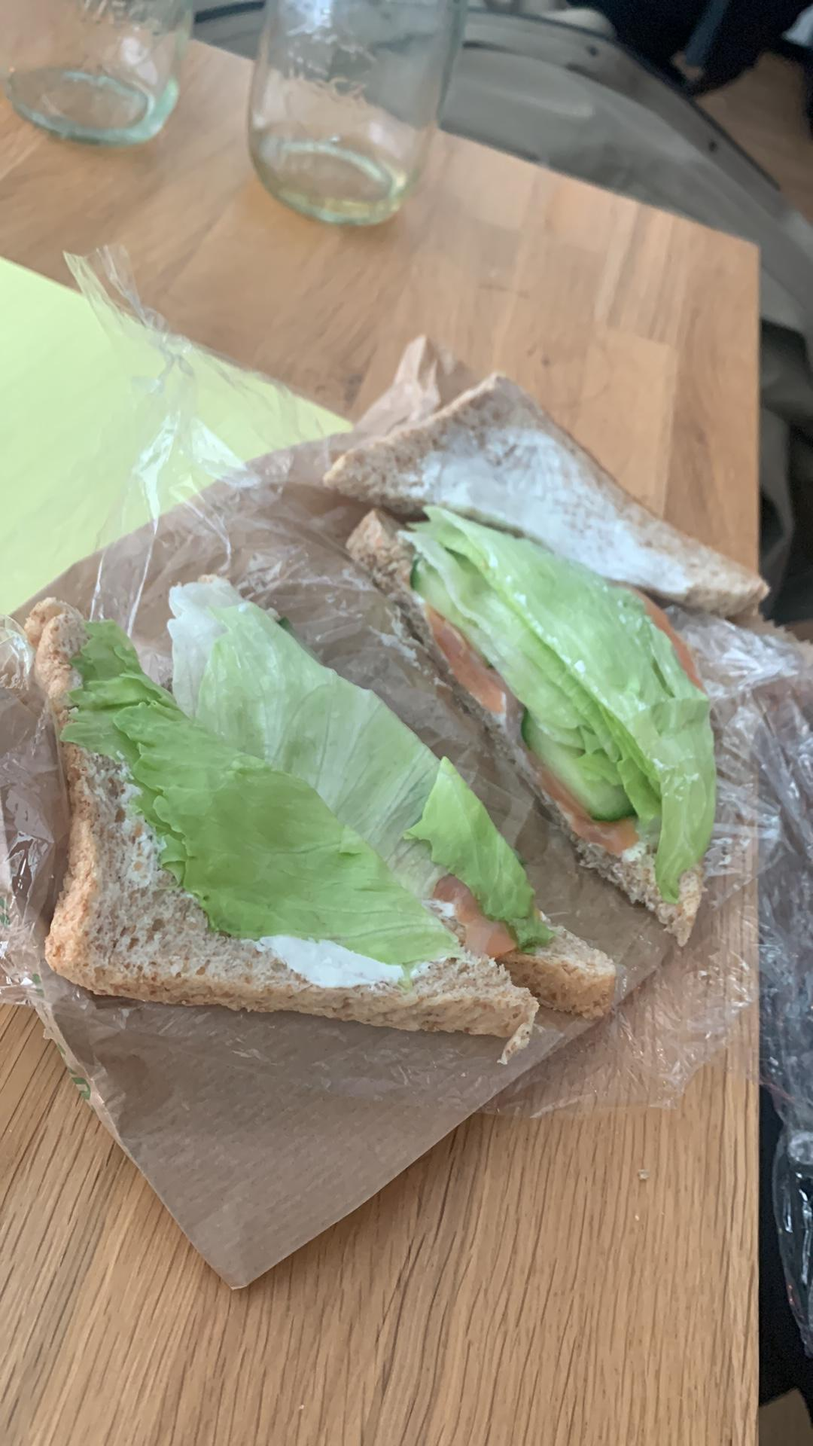cucumber: (521, 712, 638, 823)
lettuce: (162, 573, 546, 940), (75, 618, 459, 970), (423, 497, 709, 898)
